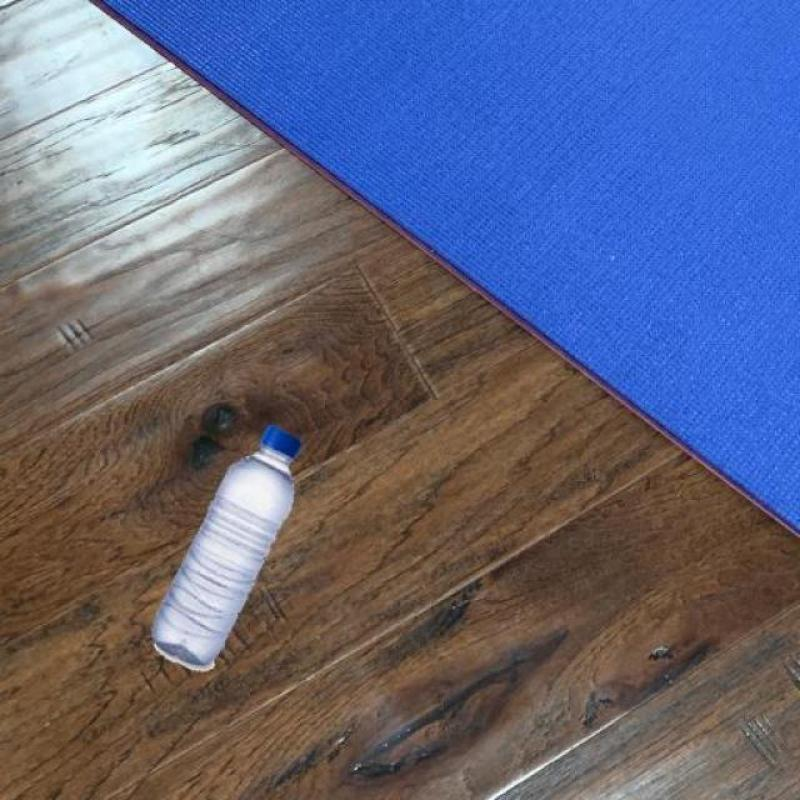botella: (151, 427, 299, 671)
